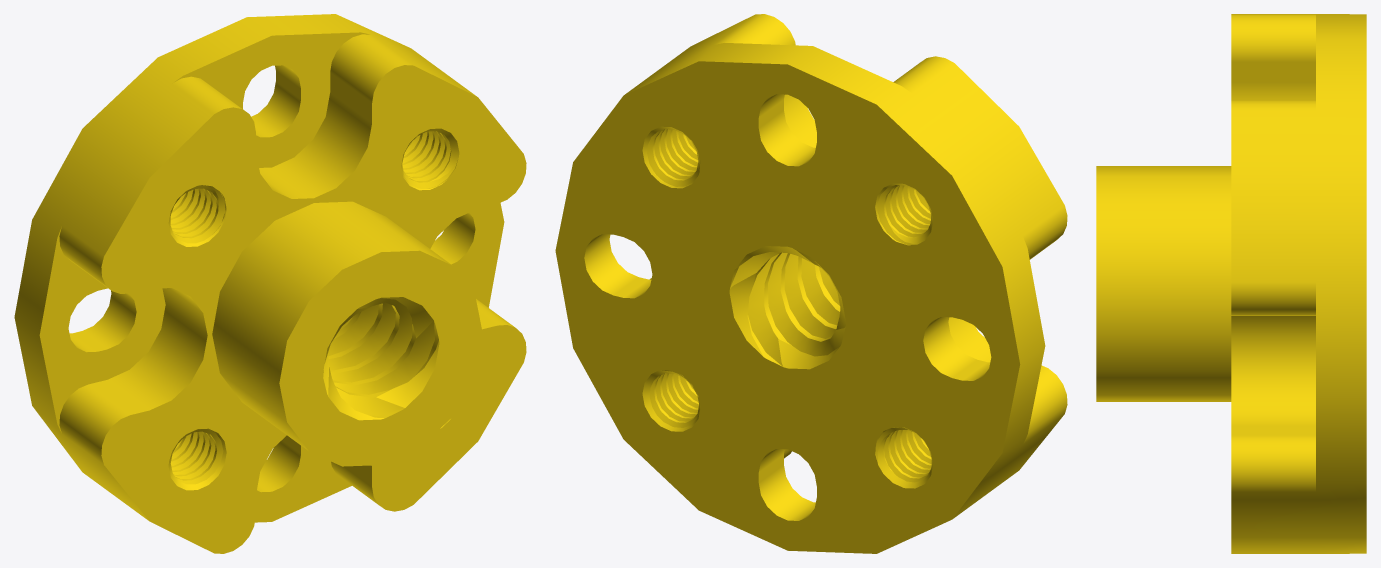
Rendered from 3505 Series Lead Screw Pattern Nut _8mm Lead_ 4 Start_ 32mm OD_ 16mm Length_ 3505_0804_3216.gltf.
3 views of the same model, side by side, from view 1: azimuth 30°, elevation 25°; view 2: azimuth 150°, elevation 25°; view 3: azimuth 270°, elevation 25° (orthographic).
Visible parts, largest first — view 1: mesh721, mesh712, mesh634, mesh633, mesh722, mesh700, mesh723, mesh701, mesh715, mesh719, mesh704, mesh706 (+22 smaller); view 2: mesh659, mesh712, mesh645, mesh687, mesh681, mesh651, mesh693, mesh699, mesh672, mesh669, mesh719, mesh661 (+16 smaller); view 3: mesh712, mesh633, mesh707, mesh711, mesh705, mesh710, mesh702, mesh701, mesh704, mesh709.
Boxes of the visible parts, x1,y1,x2,y2 form: mesh721: (101, 65, 526, 553); mesh712: (14, 14, 476, 520); mesh634: (279, 250, 482, 466); mesh633: (212, 201, 452, 450); mesh722: (39, 227, 165, 432); mesh700: (174, 32, 369, 167); mesh723: (108, 288, 207, 410); mesh701: (259, 92, 371, 198); mesh715: (255, 446, 351, 522); mesh719: (59, 384, 129, 464); mesh704: (330, 34, 413, 102); mesh706: (451, 202, 504, 307); mesh659: (555, 61, 1020, 553); mesh712: (625, 15, 1064, 518); mesh645: (768, 252, 845, 356); mesh687: (647, 129, 700, 186); mesh681: (877, 185, 930, 244); mesh651: (748, 254, 839, 366); mesh693: (875, 427, 931, 482); mesh699: (649, 370, 699, 427); mesh672: (584, 234, 637, 295); mesh669: (923, 317, 976, 377); mesh719: (1023, 365, 1067, 444); mesh661: (759, 110, 815, 166); mesh712: (1231, 14, 1366, 553); mesh633: (1096, 166, 1231, 401); mesh707: (1231, 316, 1315, 425); mesh711: (1231, 435, 1315, 491); mesh705: (1231, 14, 1315, 61); mesh710: (1231, 282, 1315, 315); mesh702: (1231, 62, 1315, 82); mesh701: (1231, 82, 1315, 99); mesh704: (1231, 100, 1315, 111); mesh709: (1231, 426, 1315, 435).
Size of the model in its own units: 0.032 by 0.032 by 0.016.
